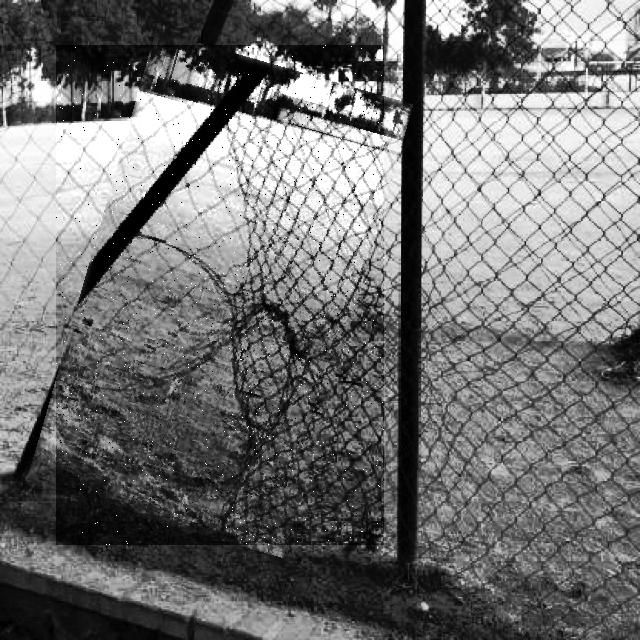anomaly-fence: (56, 45, 384, 545)
